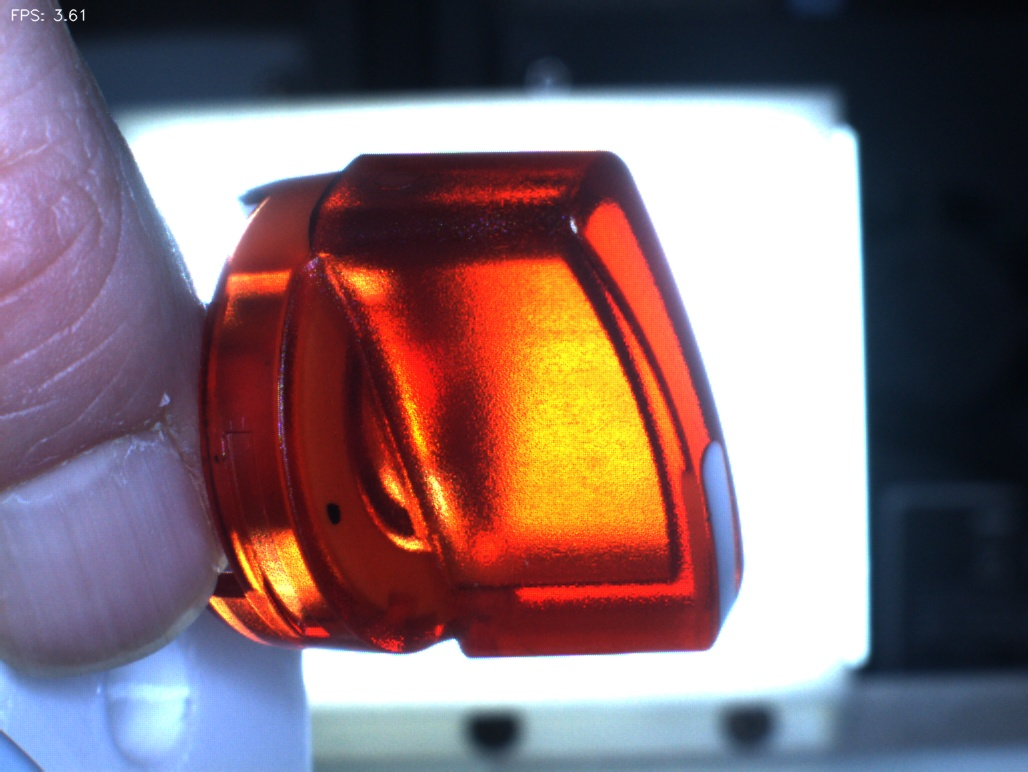PointNoir: (290, 476, 372, 558)
